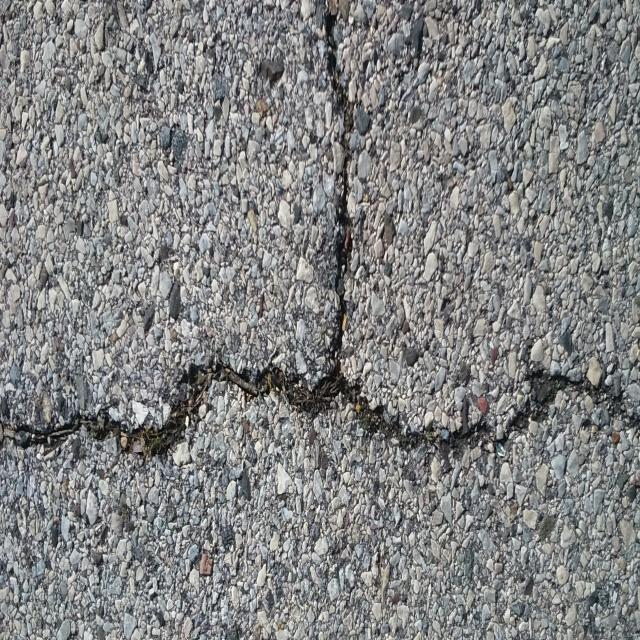Crack: (0, 0, 640, 464)
